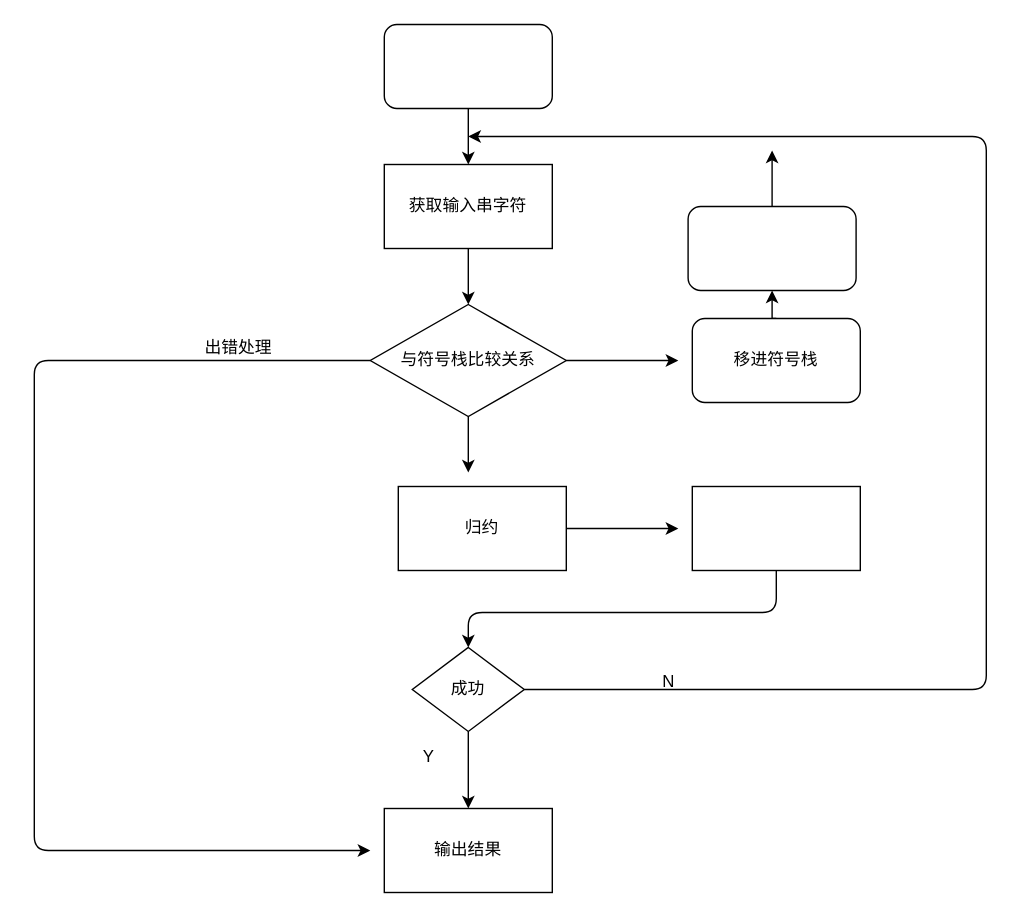
This 1022x917 diagram has some shape labels left out. The box of each missing label's shape, as (x1, y1, x2, y2) in pixels:
从标识符查找数值 压入语义栈: (687, 205, 856, 290)
对应四元式: (691, 485, 860, 570)
开始: (383, 23, 552, 108)
